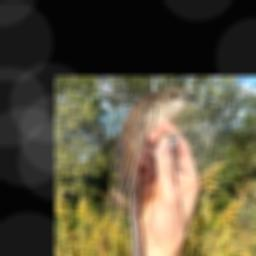Cuckoo: (113, 84, 198, 256)
